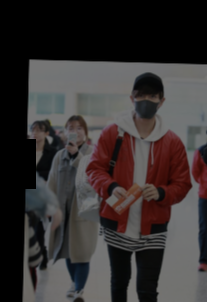with_mask: (132, 92, 159, 119)
without_mask: (66, 123, 83, 144), (29, 125, 44, 143)
